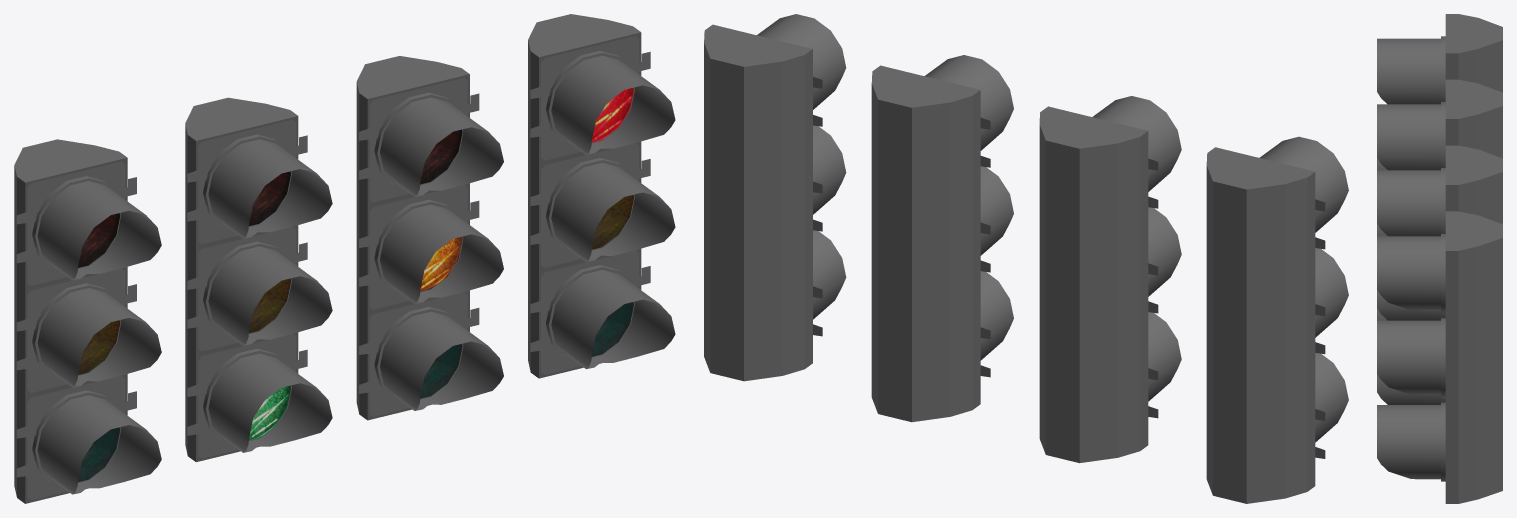
The model's file is semaforo.gltf.
3 renders of one model, left to right at view 1: azimuth 30°, elevation 25°; view 2: azimuth 150°, elevation 25°; view 3: azimuth 270°, elevation 25°, orthographic. The views are drawn at different scales.
Parts seen in each view (by area): view 1: semaforos; view 2: semaforos; view 3: semaforos.
Boxes of the visible parts, x1,y1,x2,y2 form: semaforos: [14, 14, 675, 503]; semaforos: [704, 14, 1348, 503]; semaforos: [1377, 14, 1502, 503].
Size of the model in its own units: 61.94 by 30 by 13.53.
8 materials, 6 textured.
